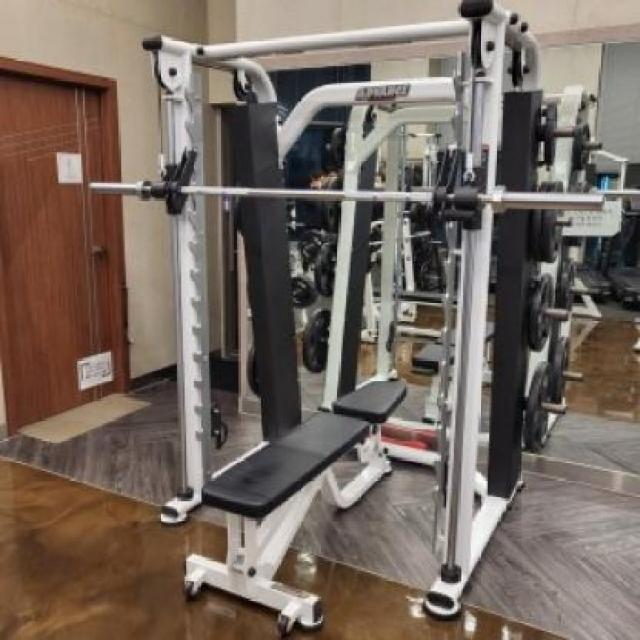smith machine: (142, 0, 544, 626)
